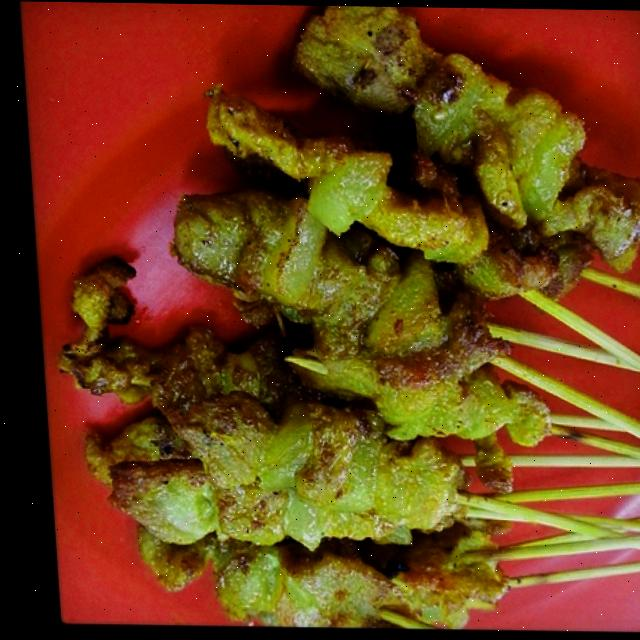牛肉菜式: (40, 0, 640, 628)
